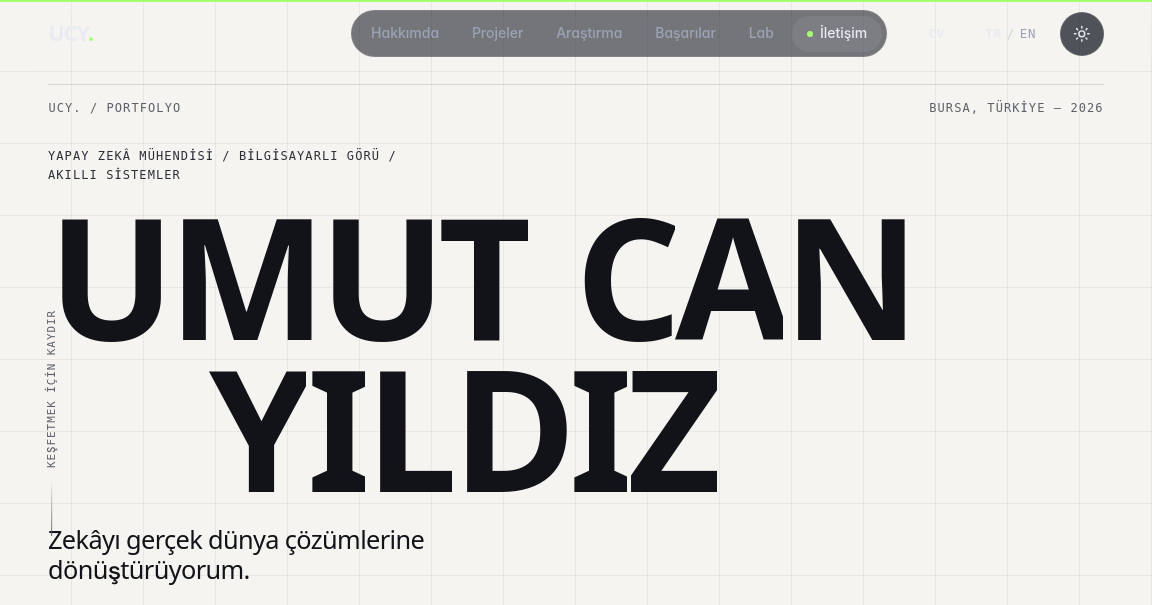
Test case: home page › switches TR → EN on the same route and persists the choice
Click the button with test id "lang-toggle": (1011, 34) [970,12,1052,56]
(page scrolled)
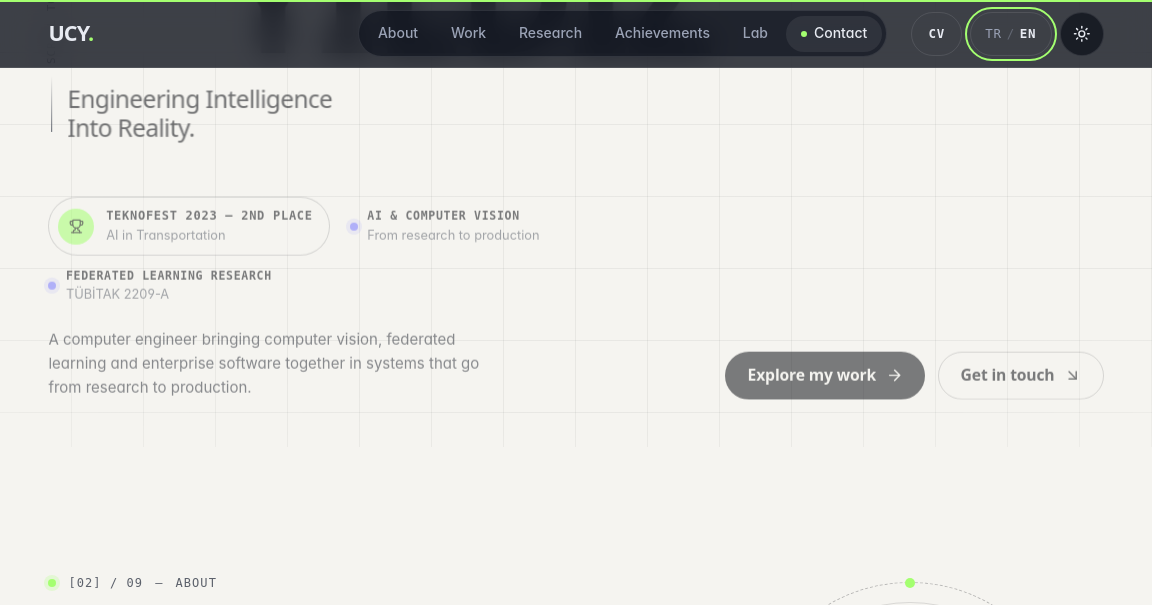
Result: the link "Explore my work" is shown at [725,352,926,400]
